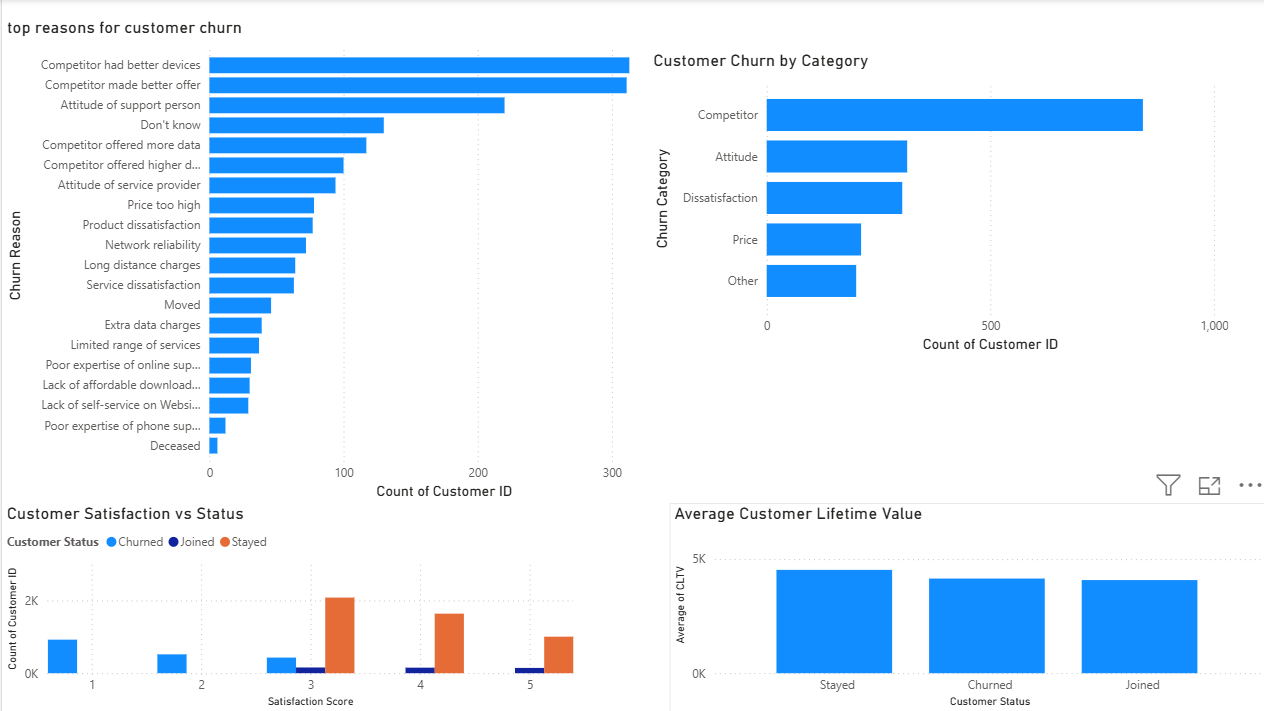

Layout of this report page (visuals, bound fields, positions):
{"tool":"powerbi","page":{"name":"churn analysis","canvas":[1280,720],"ordinal":1},"visuals":[{"type":"clusteredBarChart","title":"top reasons for customer churn","fields":{"Category":["Cleaned_Customer_Churn.Churn Reason"],"Y":["CountNonNull(Cleaned_Customer_Churn.Customer ID)"]},"box":[0,18.2,698,490.6],"z":0},{"type":"clusteredBarChart","title":"Customer Churn by Category","fields":{"Category":["Cleaned_Customer_Churn.Churn Category"],"Y":["CountNonNull(Cleaned_Customer_Churn.Customer ID)"]},"box":[652.6,51.5,590.5,308.9],"z":1000},{"type":"clusteredColumnChart","title":"Customer Satisfaction vs Status","fields":{"Category":["Cleaned_Customer_Churn.Satisfaction Score"],"Y":["CountNonNull(Cleaned_Customer_Churn.Customer ID)"],"Series":["Cleaned_Customer_Churn.Customer Status"]},"box":[0,508.8,581.5,210.5],"z":2000},{"type":"clusteredColumnChart","title":"Average Customer Lifetime Value","fields":{"Category":["Cleaned_Customer_Churn.Customer Status"],"Y":["Avg(Cleaned_Customer_Churn.CLTV)"]},"box":[673.8,508.8,605.7,210.5],"z":3000}]}

Visuals, with their boxes in screenshot pixels (x1, y1, x2, y2), scaled from the page's 1280x720 canvas onto the 1264x711 screenshot:
"top reasons for customer churn" clusteredBarChart: <bbox>0, 18, 689, 502</bbox>
"Customer Churn by Category" clusteredBarChart: <bbox>644, 51, 1228, 356</bbox>
"Customer Satisfaction vs Status" clusteredColumnChart: <bbox>0, 502, 574, 710</bbox>
"Average Customer Lifetime Value" clusteredColumnChart: <bbox>665, 502, 1263, 710</bbox>
